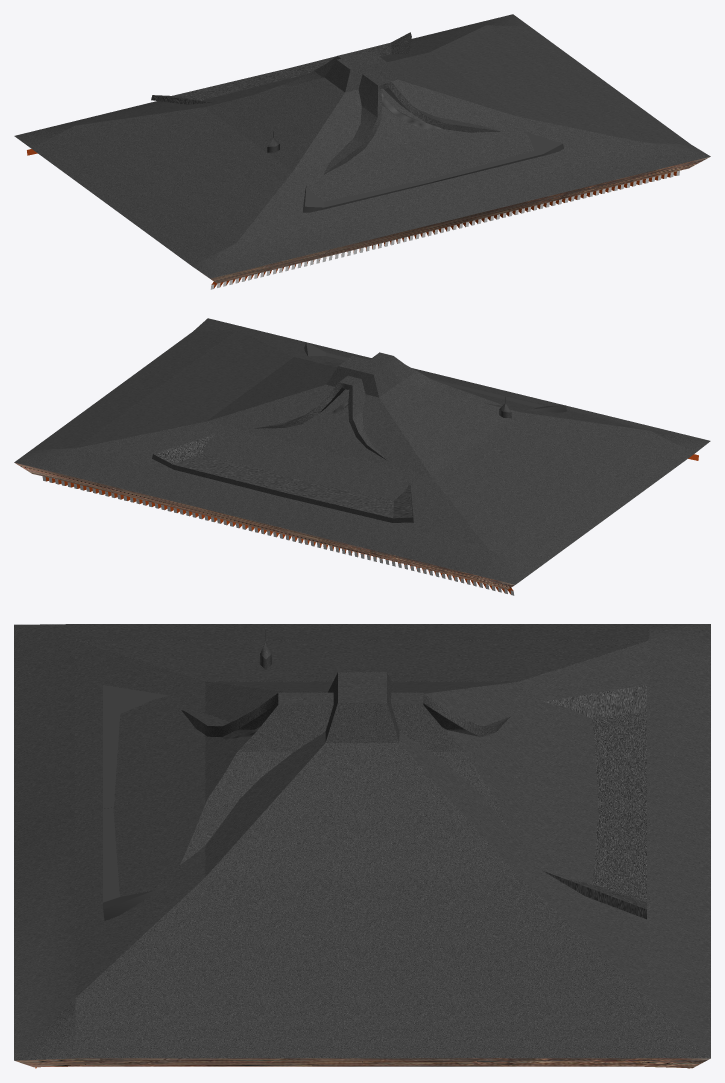
Rendered from roof-small.FBX.
3 renders of one model, top to bottom at view 1: azimuth 30°, elevation 25°; view 2: azimuth 150°, elevation 25°; view 3: azimuth 270°, elevation 25°, orthographic. The views are drawn at different scales.
Parts seen in each view (by area): view 1: roof1, roof slats #02; view 2: roof1, roof slats #03; view 3: roof1.
Boxes of the visible parts, x1,y1,x2,y2 form: roof1: (14,14,710,283); roof slats #02: (210,170,679,289); roof1: (14,318,710,589); roof slats #03: (42,476,514,595); roof1: (14,624,710,1068).
Size of the model in its own units: 684 by 134 by 461.
Materials: 4 (2 with a texture image).
